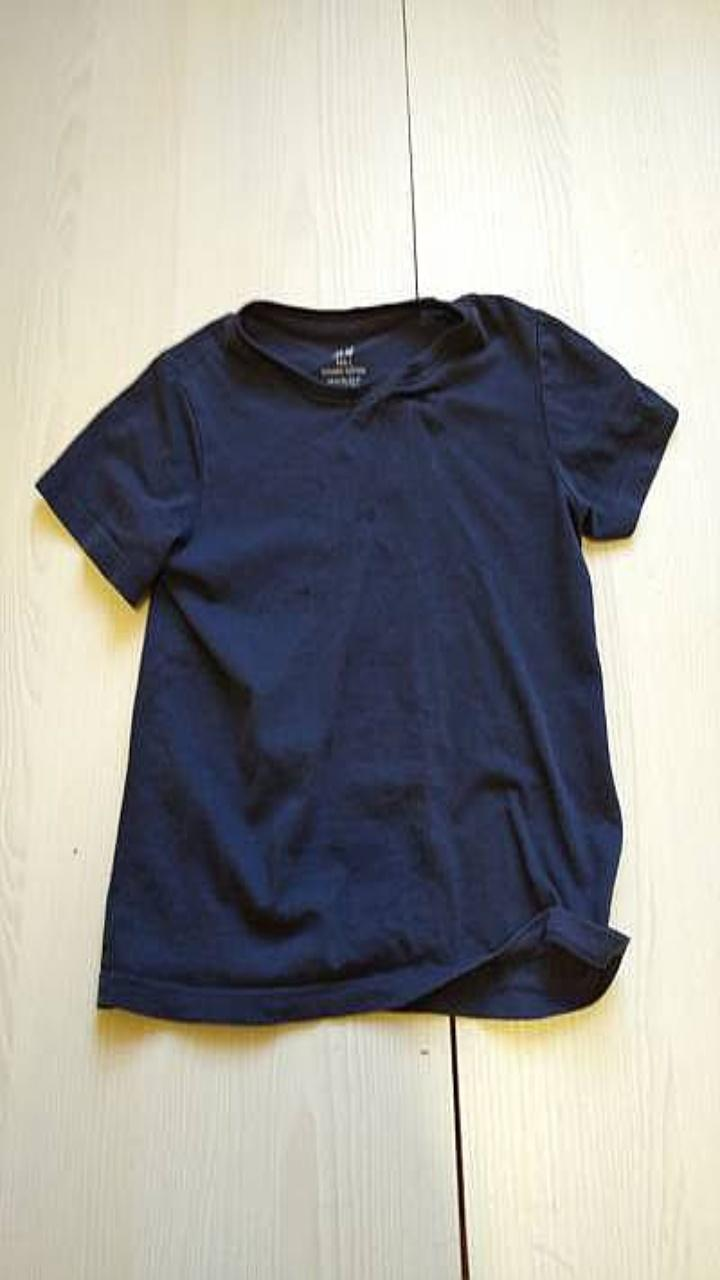T-Shirt: (35, 293, 677, 1022)
